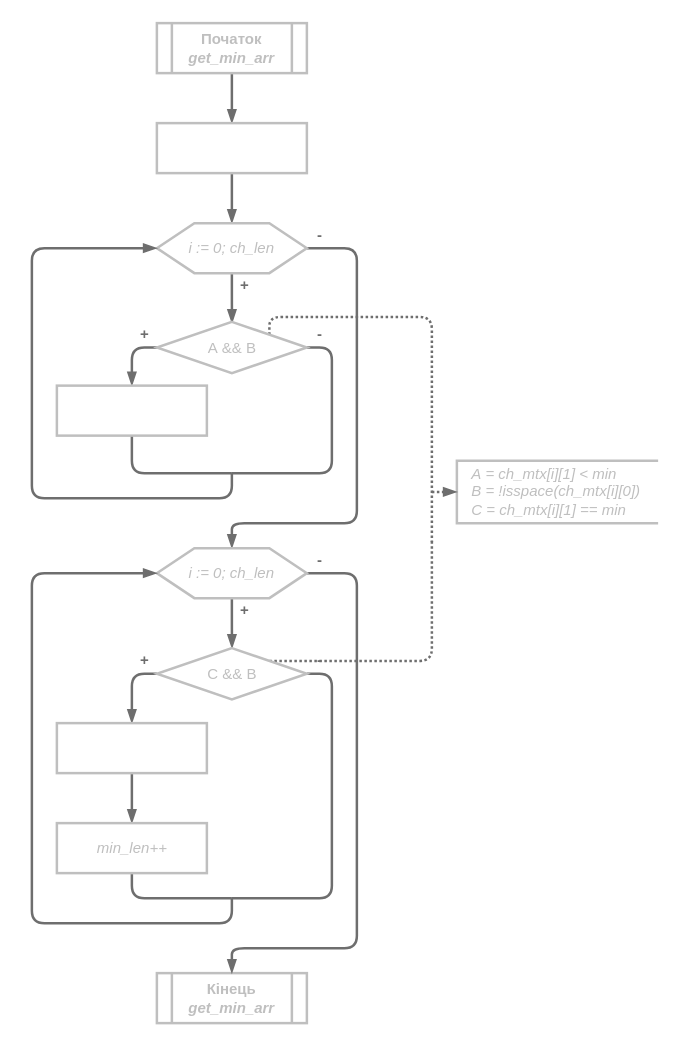
This 679x1045 diagram has some shape labels left out. The box of each missing label's shape, as (x1, y1, x2, y2) in pixels:
min = ch_mtx[0][1]: (155, 121, 308, 174)
min = ch_mtx[i][1]: (55, 384, 208, 436)
min_arr[min_len] = char(ch_mtx[i][0]): (55, 721, 208, 774)
